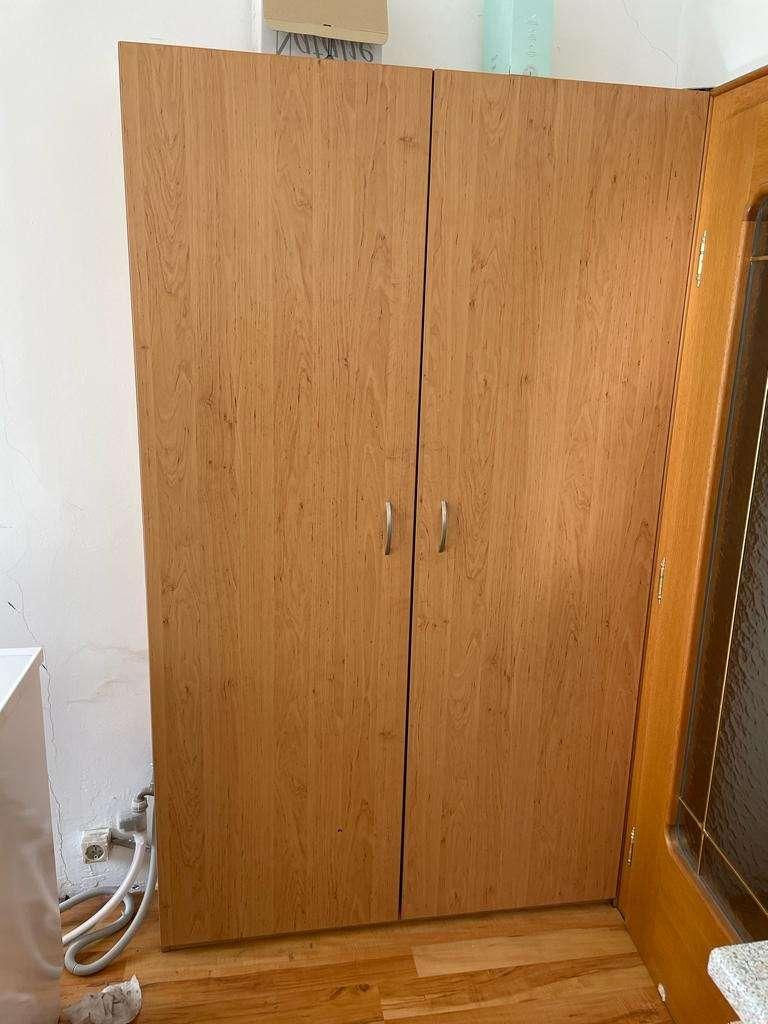cabinet_door: (137, 55, 412, 925), (417, 77, 643, 910), (672, 94, 764, 899)
handle: (380, 498, 400, 567), (433, 492, 450, 561), (656, 553, 673, 611)
